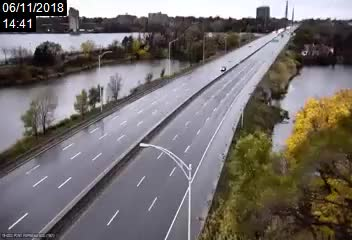personal_car: (219, 65, 227, 72)
